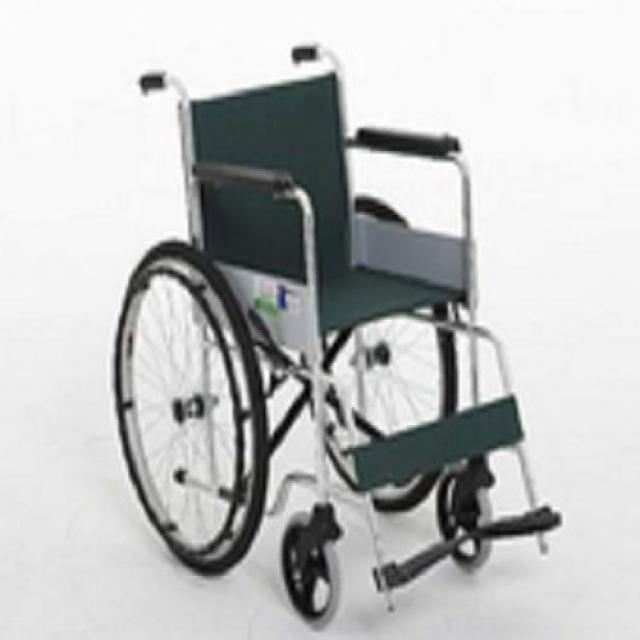wheelchair: (110, 36, 570, 625)
